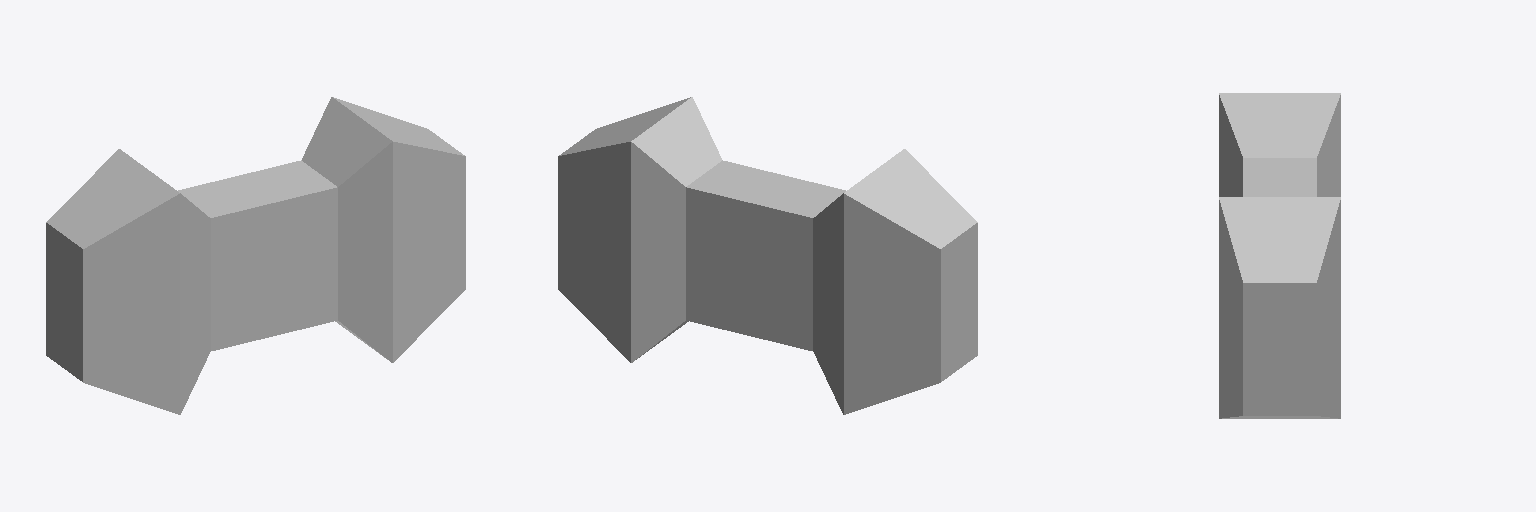
The model's file is radio.obj.
The picture shows the model from 3 angles: view 1: azimuth 30°, elevation 25°; view 2: azimuth 150°, elevation 25°; view 3: azimuth 270°, elevation 25°; orthographic projection.
Parts seen in each view (by area): view 1: Cube; view 2: Cube; view 3: Cube.
Part boxes in pixels (bbox=[...]): Cube: bbox=[46, 97, 465, 414]; Cube: bbox=[558, 97, 977, 414]; Cube: bbox=[1219, 93, 1340, 418].
Bounding box in the file's own units: 3.6 × 2 × 1.